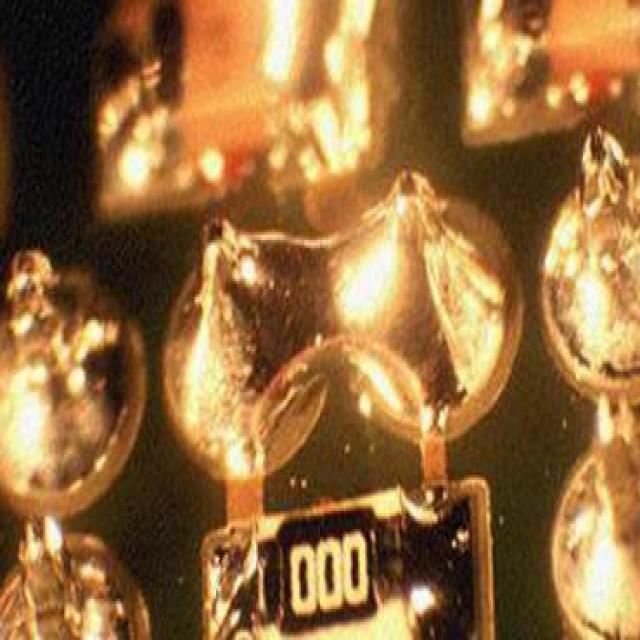Short_circuit: (185, 235, 480, 384)
